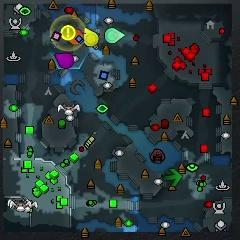Other: (60, 25, 76, 41)
p2: (105, 27, 125, 43)
p3: (54, 52, 74, 68)
p4: (84, 27, 99, 46)
p5: (69, 30, 83, 43)
x4: (165, 168, 182, 186)
